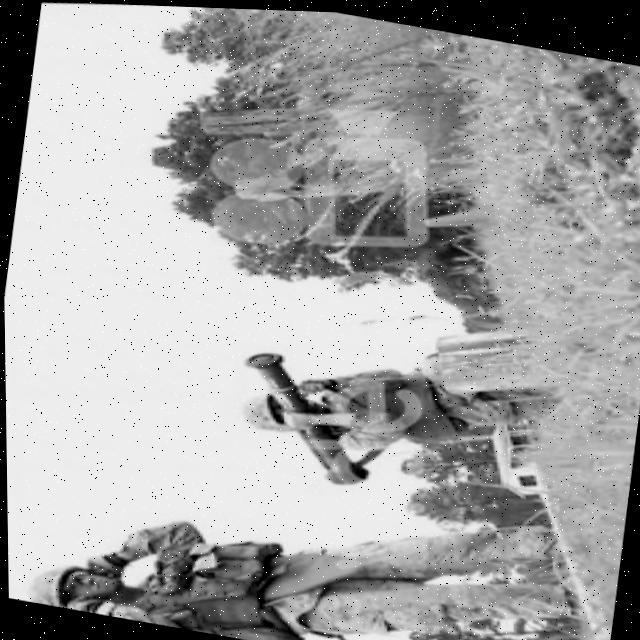rocket: (224, 327, 387, 500)
